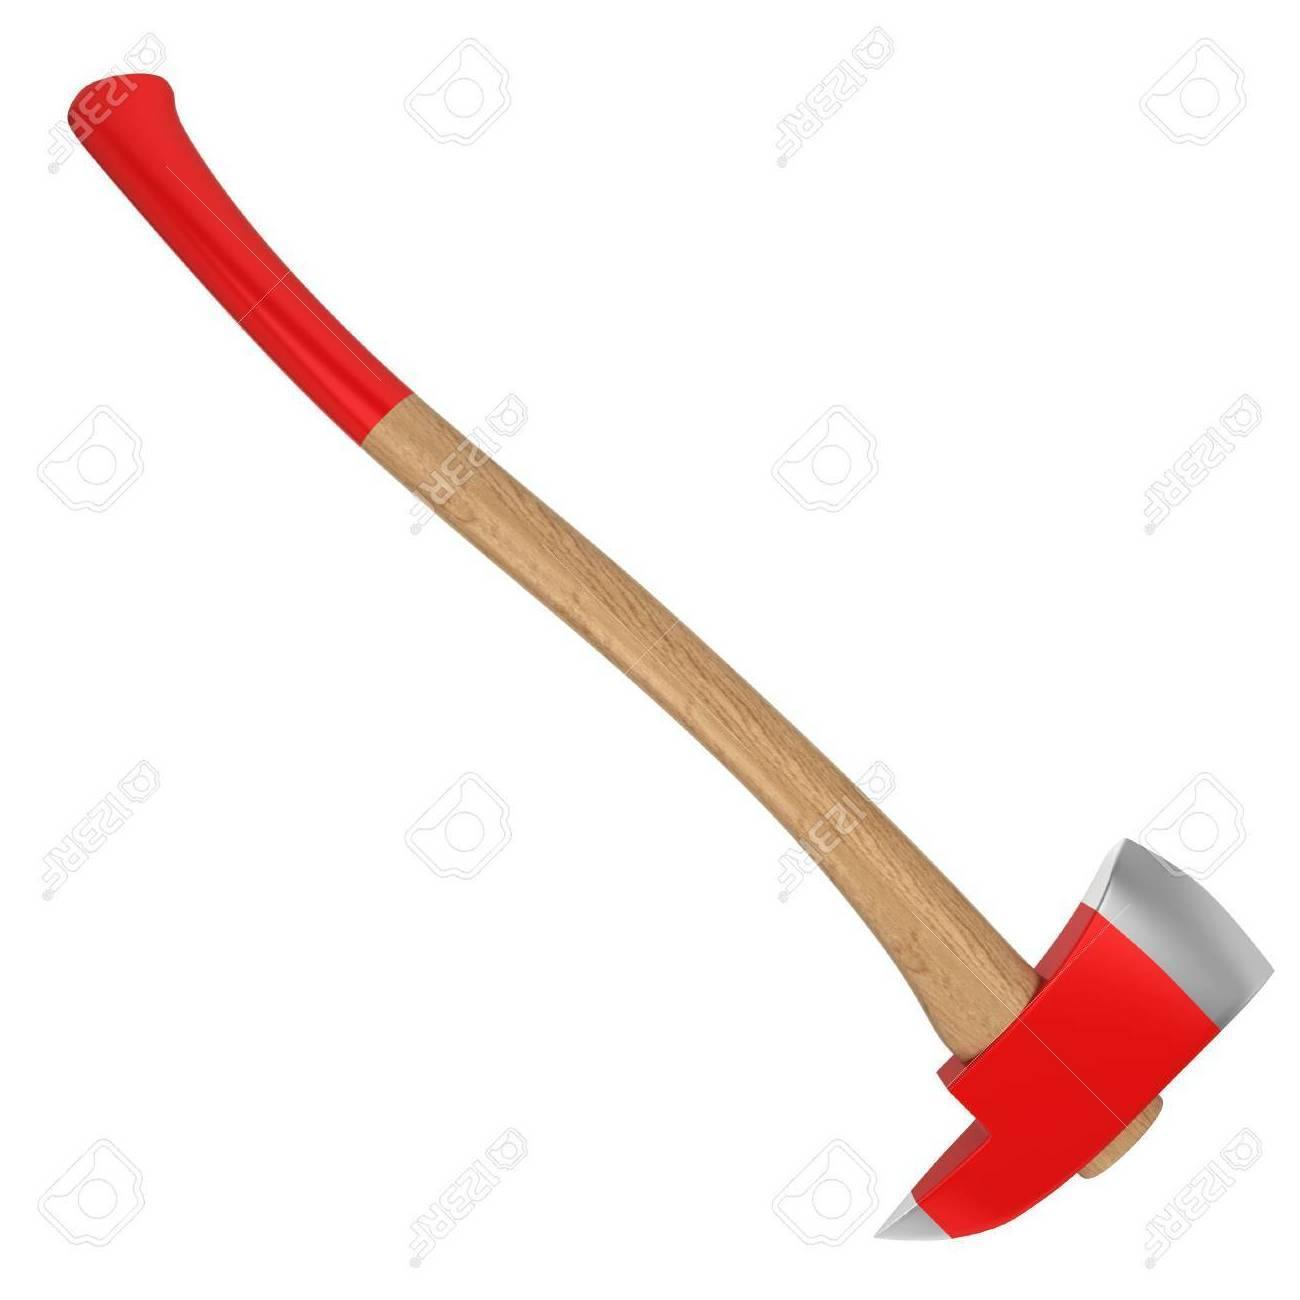machado: (68, 74, 1271, 1243)
